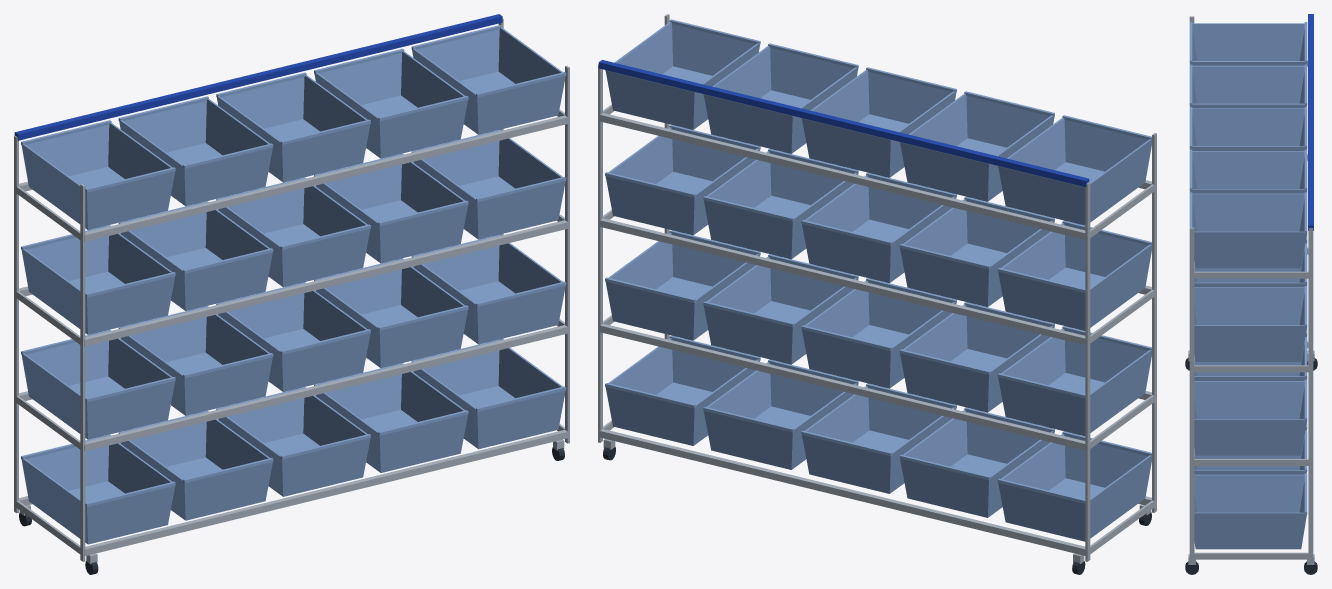
The model's file is SM_MPR_SorterSimCart120_4.fbx.
The picture shows the model from 3 angles, left to right: view 1: azimuth 30°, elevation 25°; view 2: azimuth 150°, elevation 25°; view 3: azimuth 270°, elevation 25°; orthographic projection. The views are drawn at different scales.
Visible parts, largest first — view 1: SM_MPR_SorterSimCart120_4; view 2: SM_MPR_SorterSimCart120_4; view 3: SM_MPR_SorterSimCart120_4.
Boxes of the visible parts, x1,y1,x2,y2 form: SM_MPR_SorterSimCart120_4: (14,14,569,574); SM_MPR_SorterSimCart120_4: (598,14,1156,574); SM_MPR_SorterSimCart120_4: (1185,14,1317,574).
Bounding box in the file's own units: 216 × 57.1 × 167.
